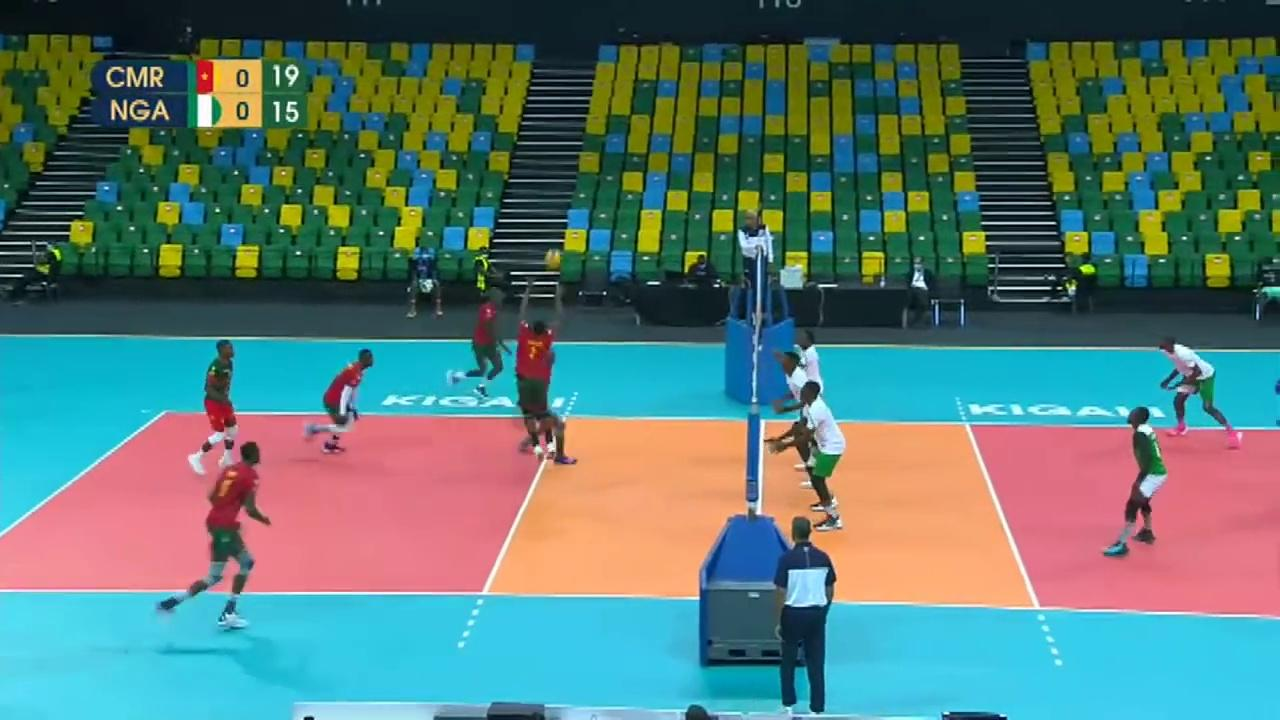player: (165, 441, 274, 631), (770, 381, 845, 534), (1103, 407, 1168, 555), (1155, 337, 1241, 439), (515, 279, 563, 459), (310, 350, 377, 454), (456, 283, 513, 401), (192, 339, 239, 475), (779, 351, 824, 490), (522, 345, 573, 463), (791, 319, 824, 459)
refree: (766, 514, 841, 720), (739, 207, 776, 305)
